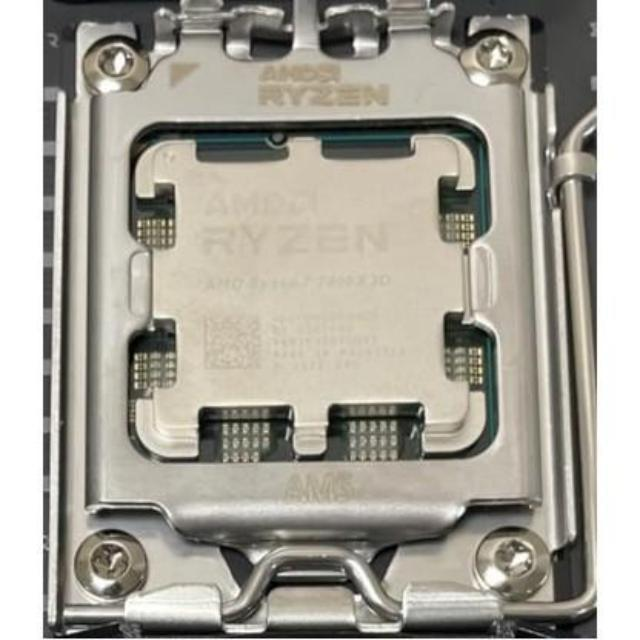CPU: (140, 138, 489, 447)
